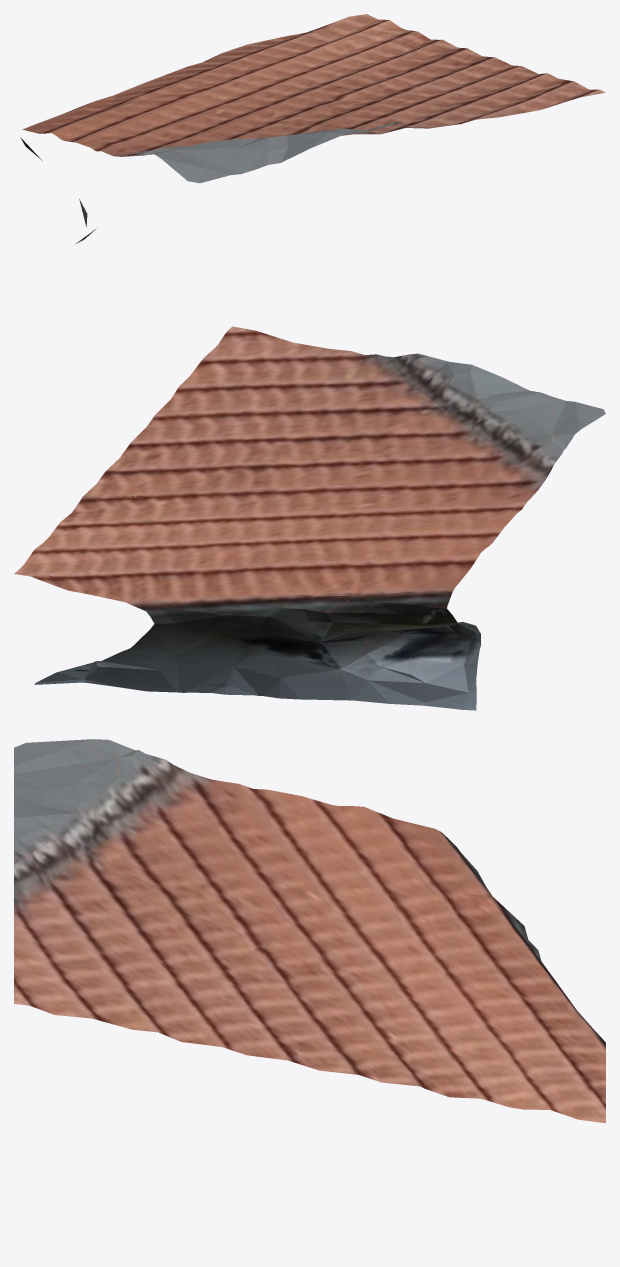
3 renders of one model, top to bottom at view 1: azimuth 30°, elevation 25°; view 2: azimuth 150°, elevation 25°; view 3: azimuth 270°, elevation 25°, orthographic. The views are drawn at different scales.
Bounding box in the file's own units: 3.35 × 1.81 × 3.35.
3 materials, 3 textured.
